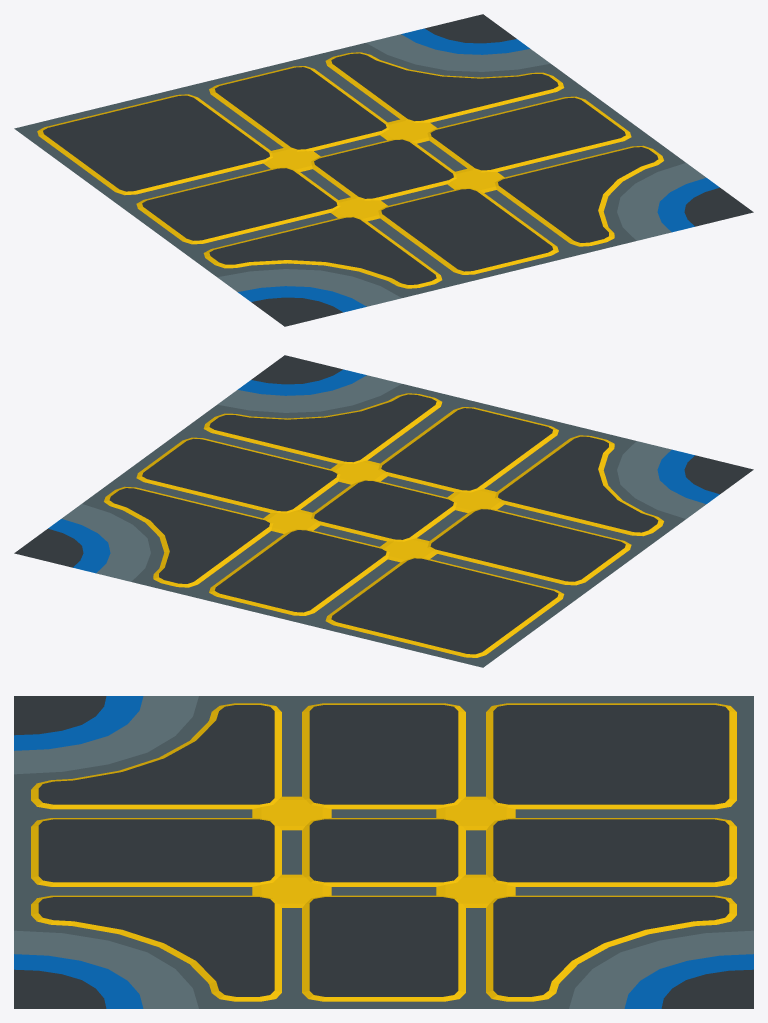
File: Floor_type_C_023.fbx
The picture shows the model from 3 angles, top to bottom: view 1: azimuth 30°, elevation 25°; view 2: azimuth 150°, elevation 25°; view 3: azimuth 270°, elevation 25°; orthographic projection. The views are drawn at different scales.
Parts seen in each view (by area): view 1: Floor_type_C_023; view 2: Floor_type_C_023; view 3: Floor_type_C_023.
Boxes of the visible parts, left/top/right/bottom form: Floor_type_C_023: left=14, top=14, right=753, bottom=326; Floor_type_C_023: left=14, top=355, right=753, bottom=667; Floor_type_C_023: left=14, top=696, right=753, bottom=1008.
Size of the model in its own units: 400 by 400 by 1.34.
